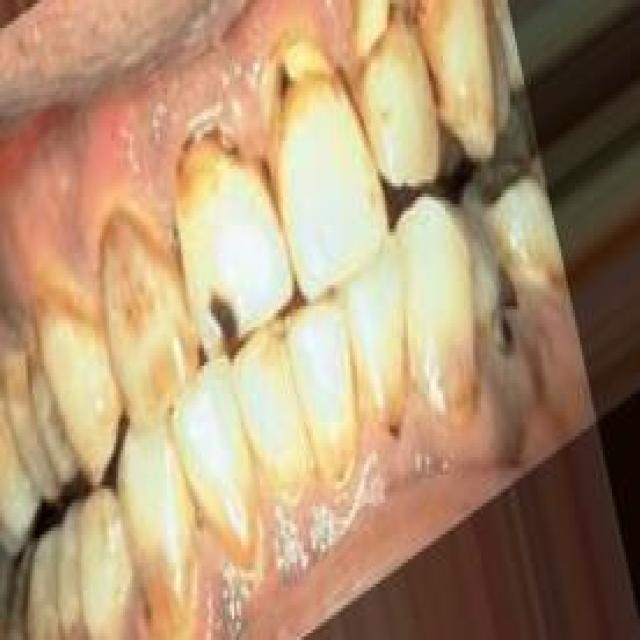caries: (250, 23, 341, 146), (484, 260, 538, 367), (193, 278, 250, 374), (343, 0, 417, 63), (164, 108, 236, 169)
